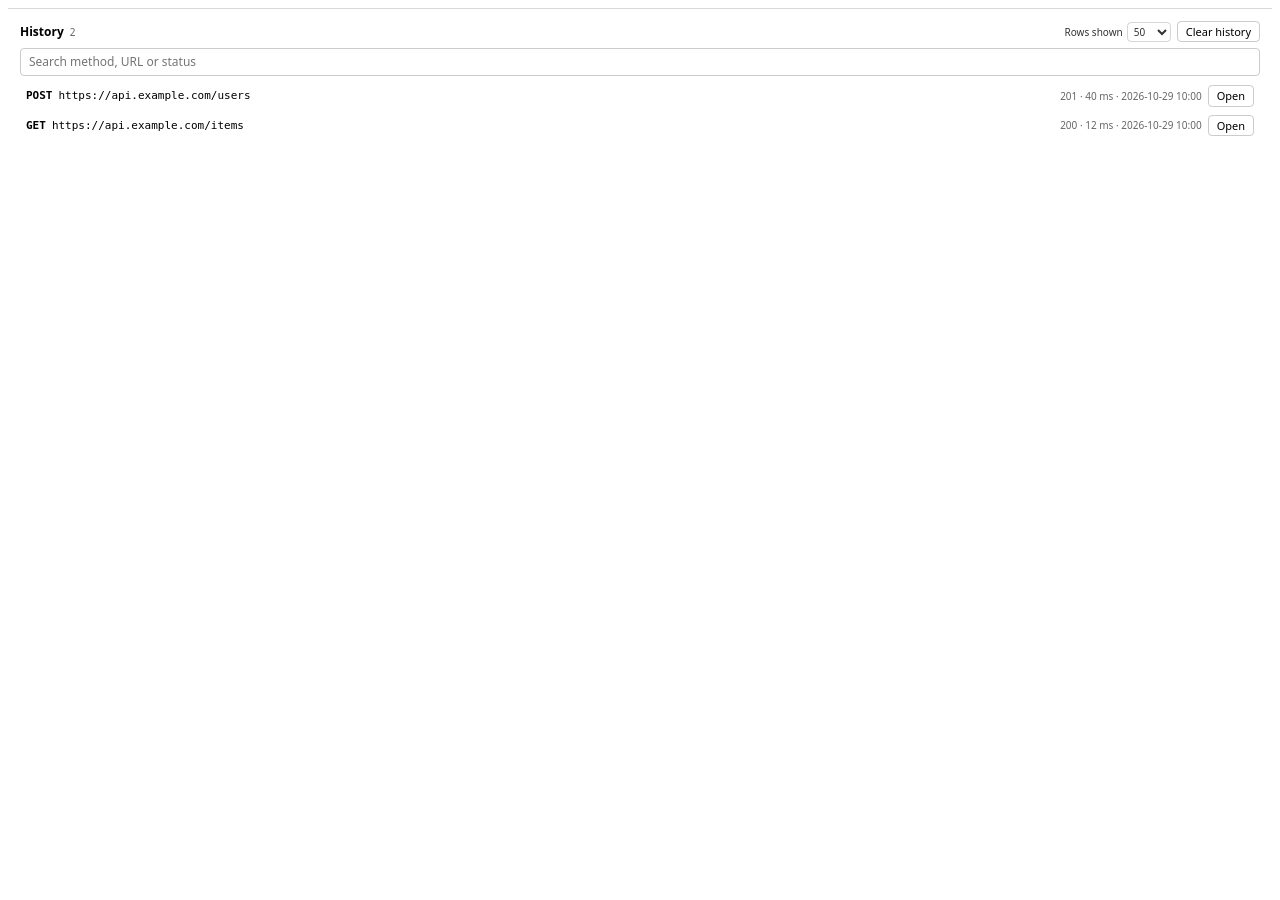
HistoryList clear › asks before clearing and empties the log afterwards
Expected: the text "https://api.example.com/items" is shown, [52,119,244,132]
Click the button "Clear history" at (1218, 32), box [1177,21,1260,42]
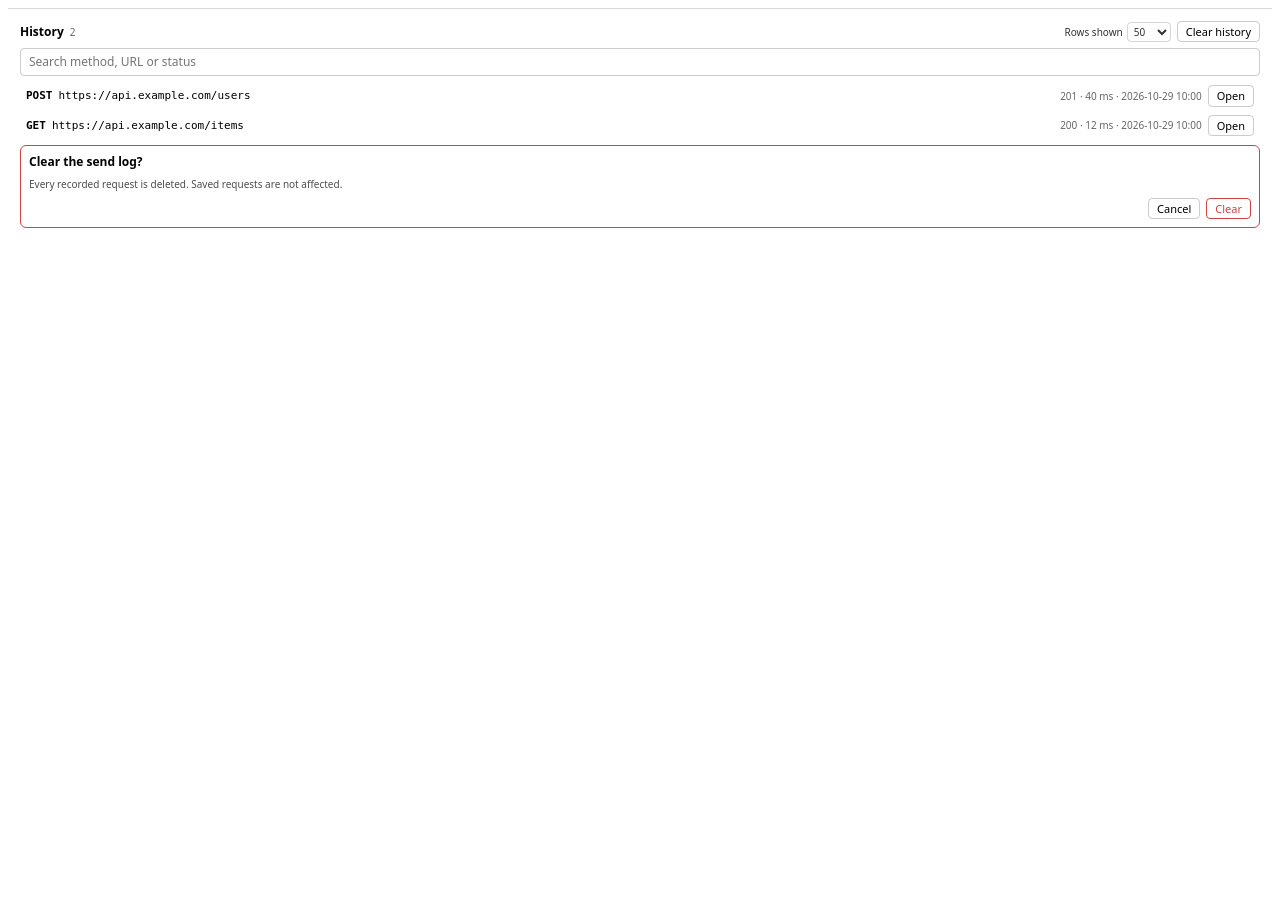
Expected: the dialog shows "Clear the send log?", [29,153,143,170]
Expected: the dialog shows "Saved requests are not affected.", [29,177,342,191]
Click the button "Cancel" at (1174, 209), box [1148,198,1200,219]
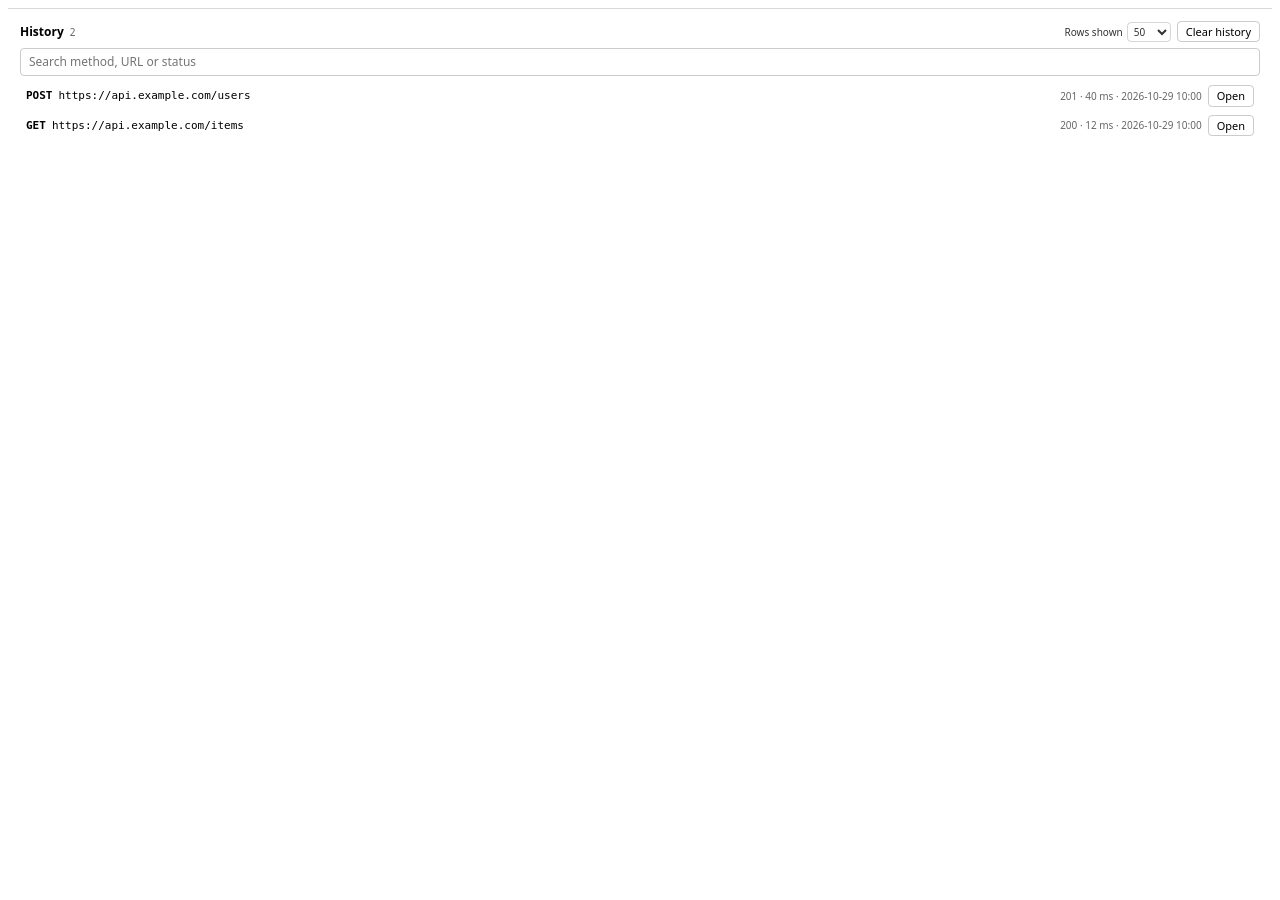
Click the button "Clear history" at (1218, 32), box [1177,21,1260,42]
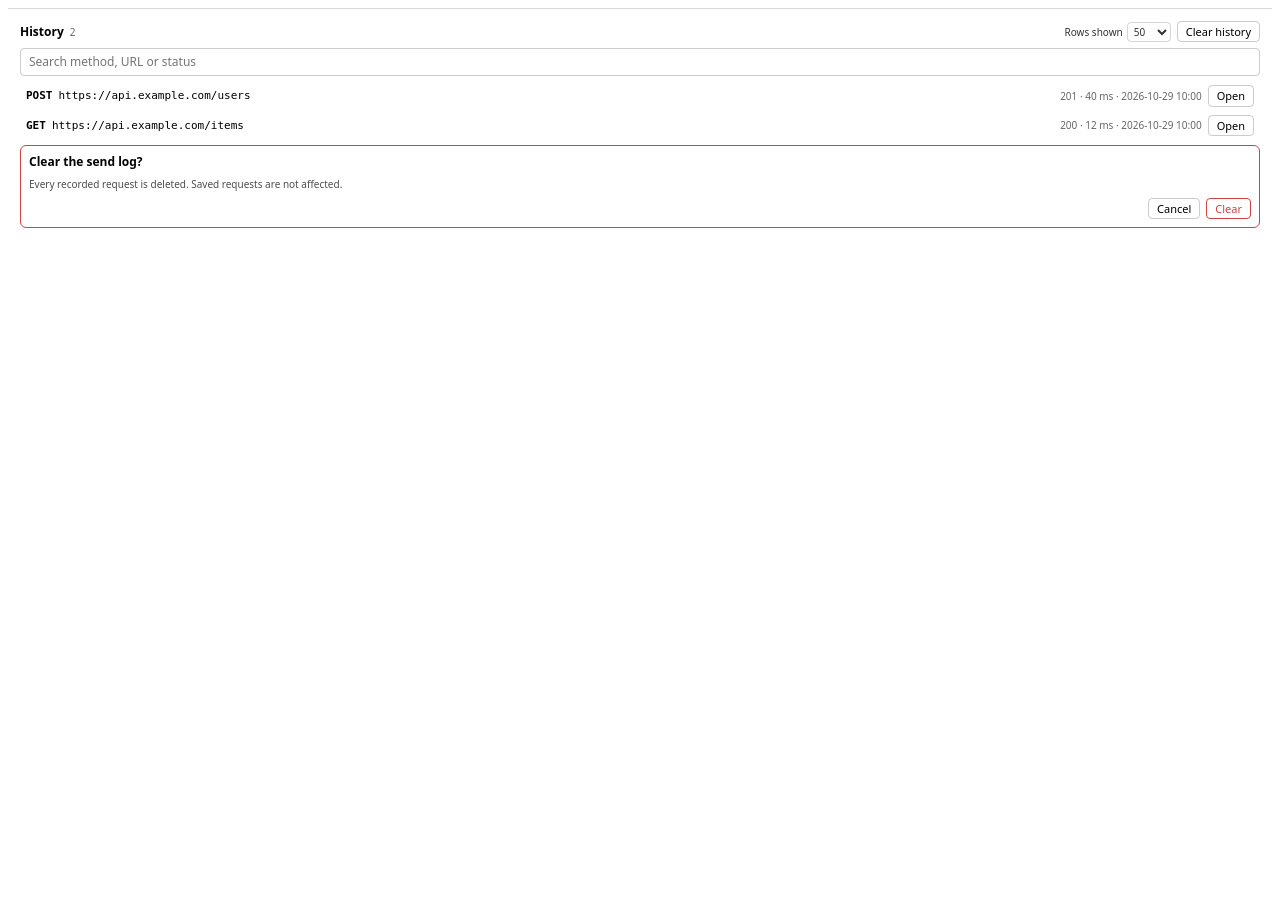
Click the button "Clear" at (1229, 209), box [1206,198,1251,219]
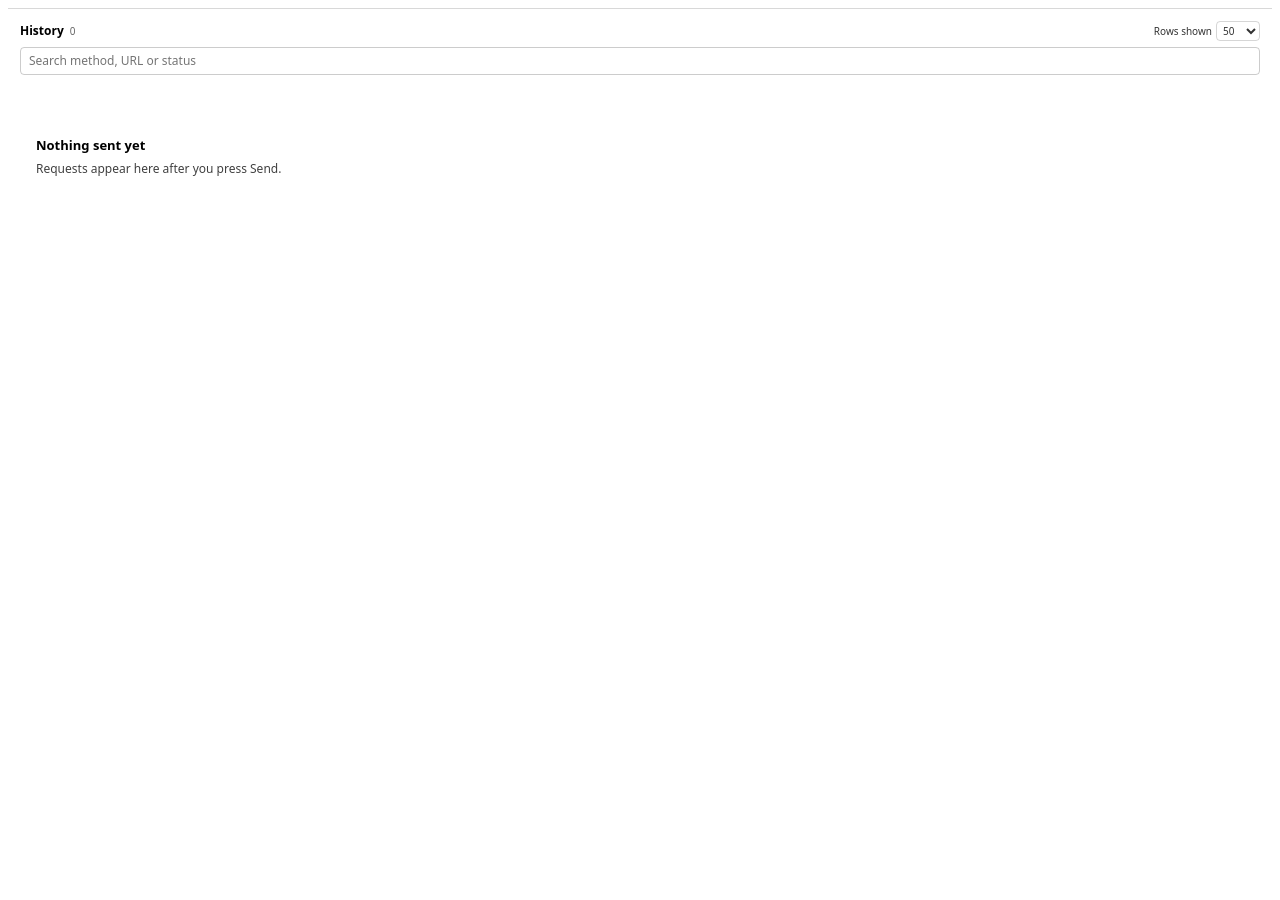
Expected: the heading "Nothing sent yet" is shown, [36,136,145,154]
